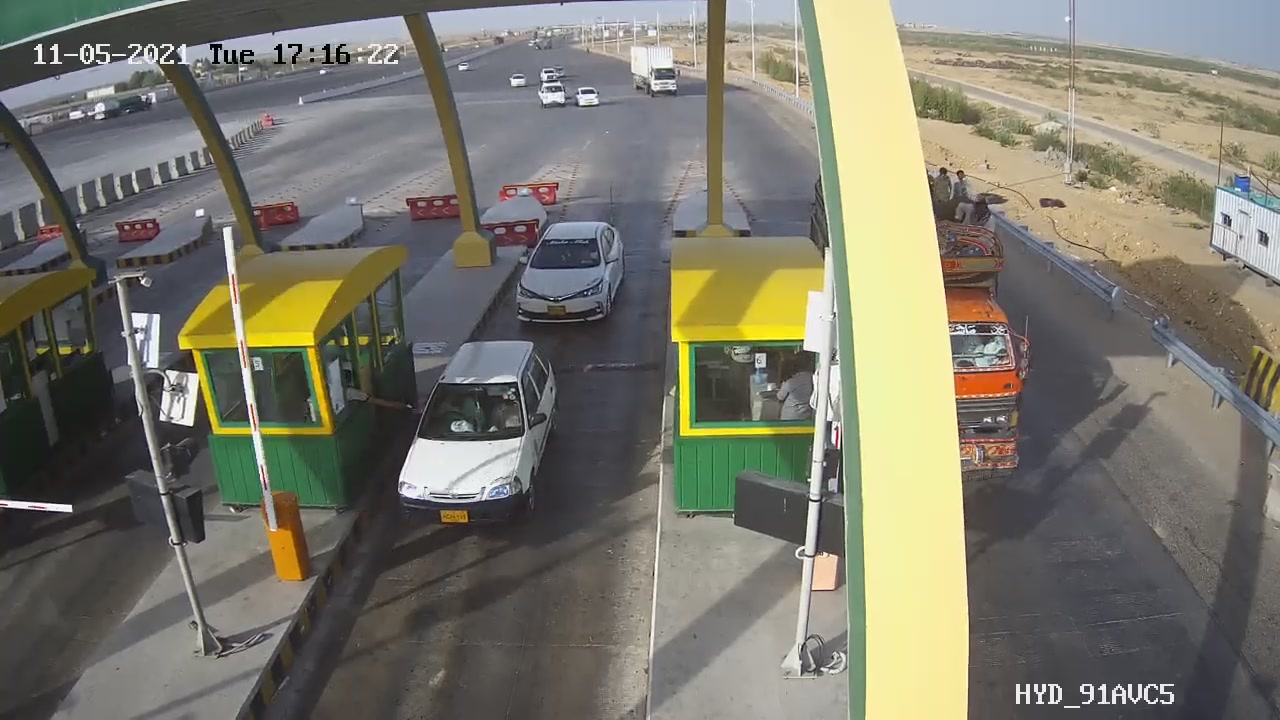F1: (379, 330, 574, 547), (500, 209, 642, 342)
